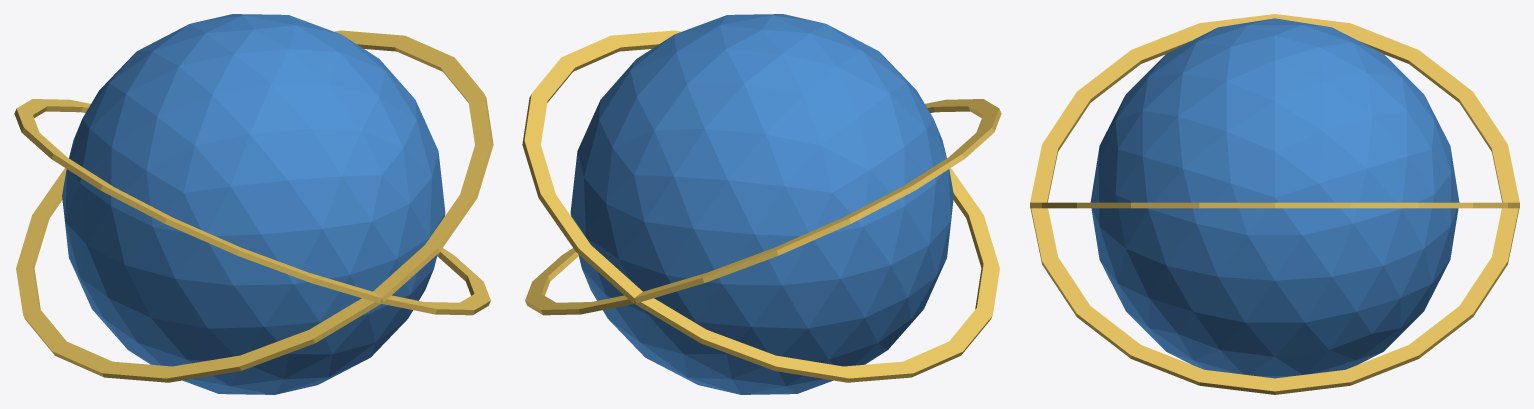
File: planet.fbx
The picture shows the model from 3 angles, left to right: view 1: azimuth 30°, elevation 25°; view 2: azimuth 150°, elevation 25°; view 3: azimuth 270°, elevation 25°; orthographic projection. The views are drawn at different scales.
Parts seen in each view (by area): view 1: Icosphere.007; view 2: Icosphere.007; view 3: Icosphere.007.
Boxes of the visible parts, x1,y1,x2,y2 form: Icosphere.007: (14, 14, 493, 394); Icosphere.007: (522, 14, 1001, 394); Icosphere.007: (1030, 14, 1519, 394).
Size of the model in its own units: 20.18 by 16.62 by 22.07.
